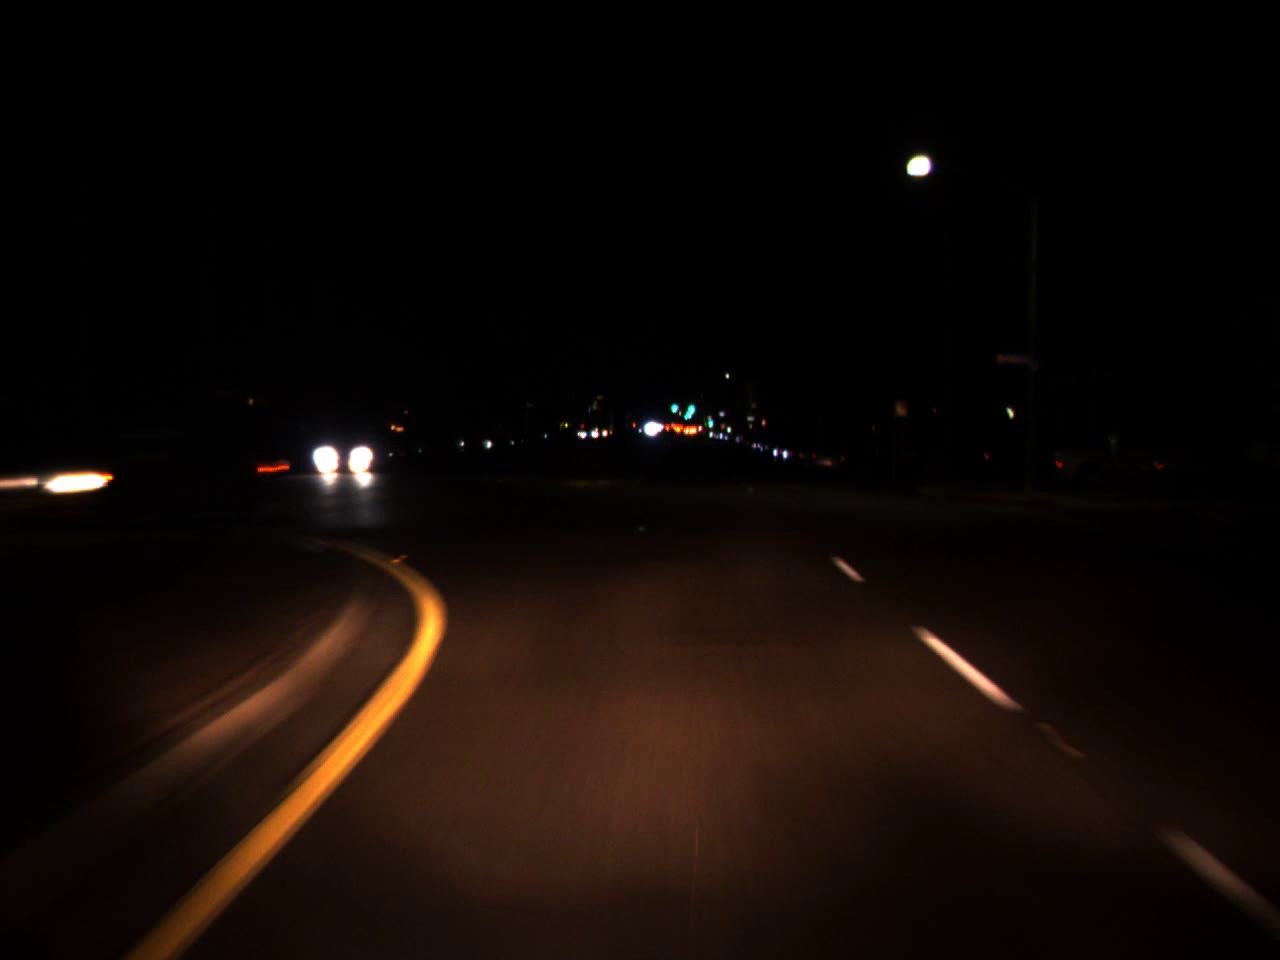go: (681, 395, 695, 419), (703, 411, 715, 429), (669, 397, 678, 412)
